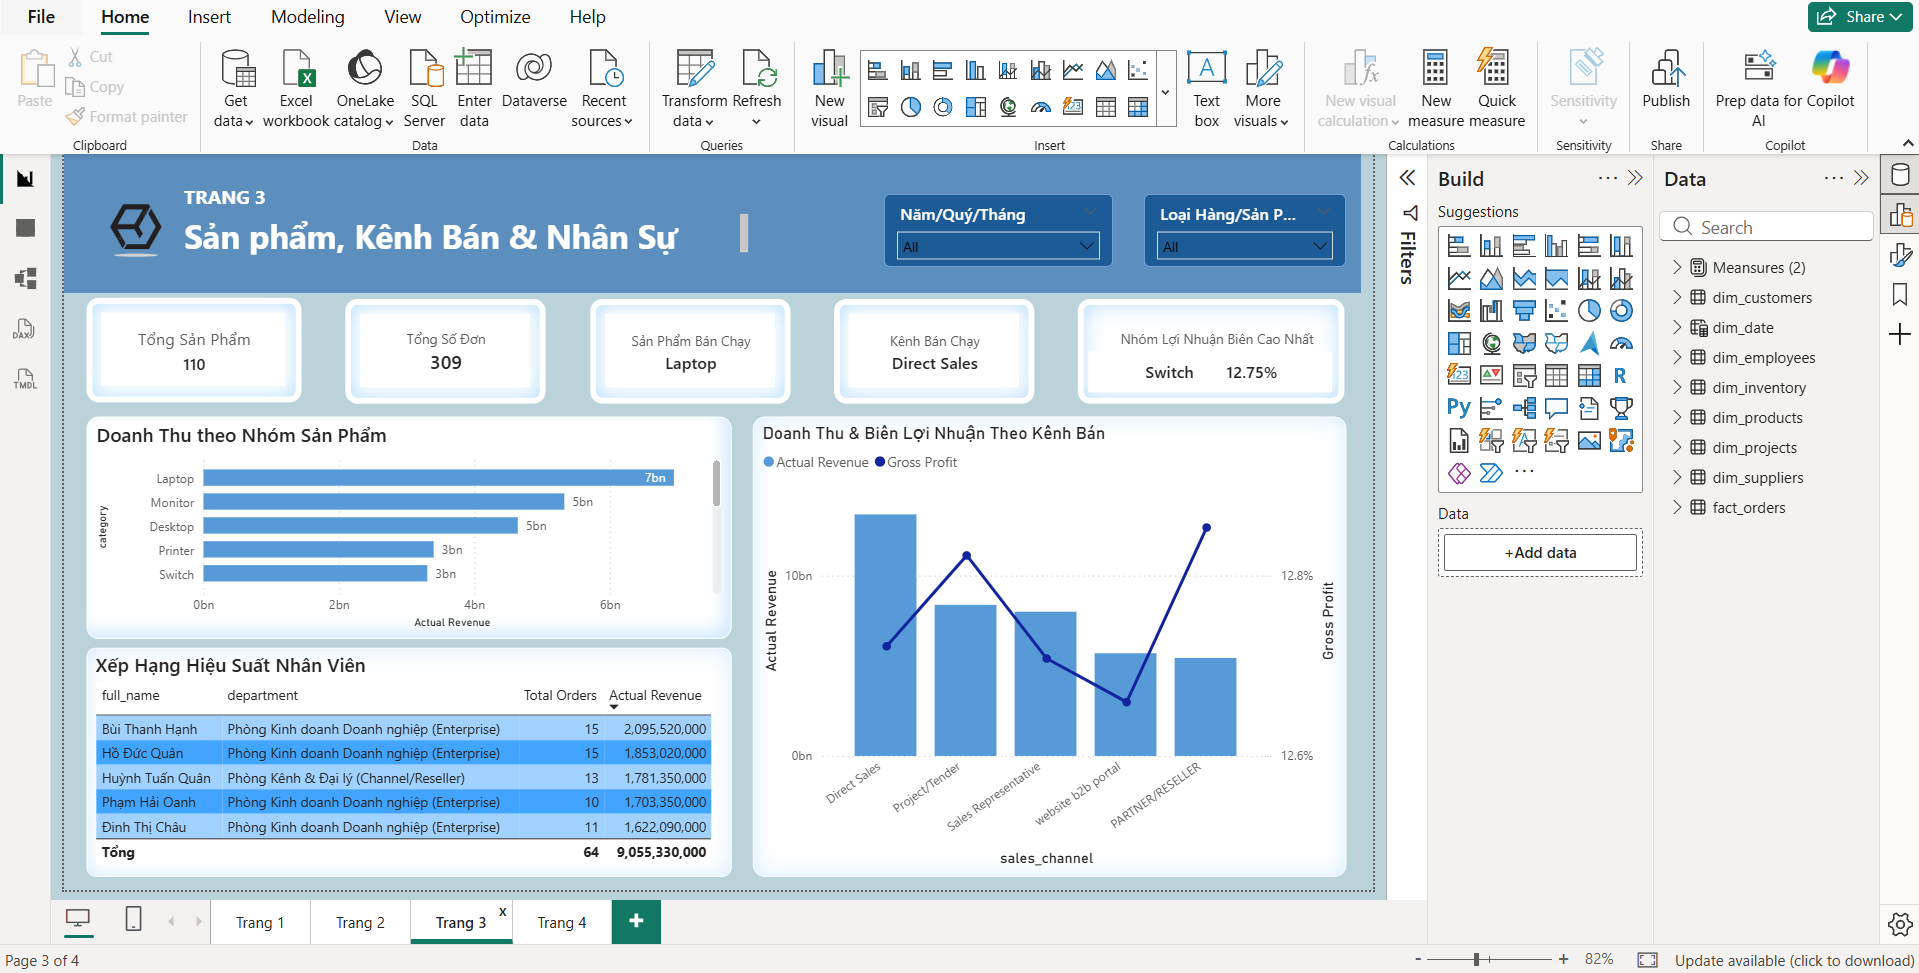

The page's visual inventory and layout, read from the dashboard file:
{"tool":"powerbi","page":{"name":"Trang 3","canvas":[1280,720],"ordinal":2},"visuals":[{"type":"cardVisual","fields":{"Data":["Meansures (2).Total Products"]},"box":[22.6,140.8,210.3,102.7],"z":0},{"type":"textbox","box":[0,0,1268.8,136.2],"z":1000},{"type":"textbox","box":[112.4,54,561.8,49.8],"z":2000},{"type":"cardVisual","fields":{"Data":["Meansures (2).Top Product"]},"box":[514.4,141.8,196.2,102.4],"z":3000},{"type":"textbox","box":[112.5,24.5,186.1,40.4],"z":4000},{"type":"cardVisual","fields":{"Data":["Meansures (2).Total Orders"]},"box":[275.5,142.2,196.2,102.5],"z":5000},{"type":"image","box":[18.8,18.8,103.9,98.1],"z":6000},{"type":"cardVisual","fields":{"Data":["Meansures (2).Top Chanel"]},"box":[753.2,142.3,196.3,102.4],"z":7000},{"type":"slicer","title":"Kênh bán ","fields":{"Values":["dim_date.years","dim_date.quaters","dim_date.months"]},"box":[802.2,39.1,223.8,70.9],"z":8000},{"type":"cardVisual","title":" ","fields":{"Data":["Meansures (2).Gross Product","Meansures (2).Gross Profit"]},"box":[992,141.8,261.1,102.4],"z":9000},{"type":"slicer","title":"Kênh bán ","fields":{"Values":["dim_products.category","dim_products.product_name"]},"box":[1056.2,38.8,197.5,71.2],"z":10000},{"type":"clusteredBarChart","title":"Doanh Thu theo Nhóm Sản Phẩm","fields":{"Category":["dim_products.category"],"Y":["Meansures (2).Actual Revenue"]},"box":[22,256.8,631,217.7],"z":11000},{"type":"lineClusteredColumnComboChart","title":"Doanh Thu & Biên Lợi Nhuận Theo Kênh Bán","fields":{"Category":["fact_orders.sales_channel"],"Y":["Meansures (2).Actual Revenue"],"Y2":["Meansures (2).Gross Profit"]},"box":[673.8,256.8,580.8,450],"z":12000},{"type":"tableEx","title":"Xếp Hạng Hiệu Suất Nhân Viên","fields":{"Values":["dim_employees.full_name","dim_employees.department","Meansures (2).Total Orders","Meansures (2).Actual Revenue"]},"box":[22,483,631,223.8],"z":13000}]}

Visuals, with their boxes on the page's 1280x720 design canvas (x1, y1, x2, y2). These are canvas units, not pixel positions in the 1919x973 screenshot, which may show the page scaled, cropped or inside an application window:
cardVisual - Meansures (2).Total Products: 23, 141, 233, 244
textbox: 0, 0, 1269, 136
textbox: 112, 54, 674, 104
cardVisual - Meansures (2).Top Product: 514, 142, 711, 244
textbox: 112, 24, 299, 65
cardVisual - Meansures (2).Total Orders: 276, 142, 472, 245
image: 19, 19, 123, 117
cardVisual - Meansures (2).Top Chanel: 753, 142, 950, 245
"Kênh bán " slicer: 802, 39, 1026, 110
" " cardVisual: 992, 142, 1253, 244
"Kênh bán " slicer: 1056, 39, 1254, 110
"Doanh Thu theo Nhóm Sản Phẩm" clusteredBarChart: 22, 257, 653, 474
"Doanh Thu & Biên Lợi Nhuận Theo Kênh Bán" lineClusteredColumnComboChart: 674, 257, 1255, 707
"Xếp Hạng Hiệu Suất Nhân Viên" tableEx: 22, 483, 653, 707
